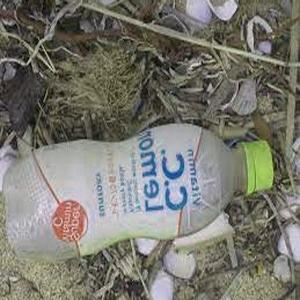Plastic: (8, 120, 278, 264)
